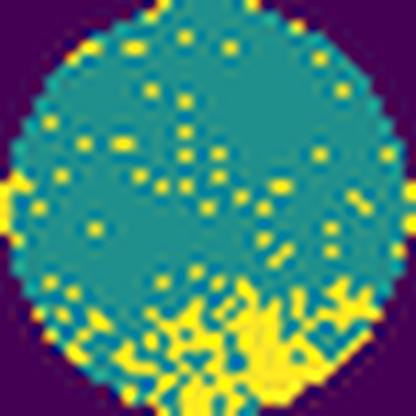Edge-Loc: (114, 270, 389, 416)
